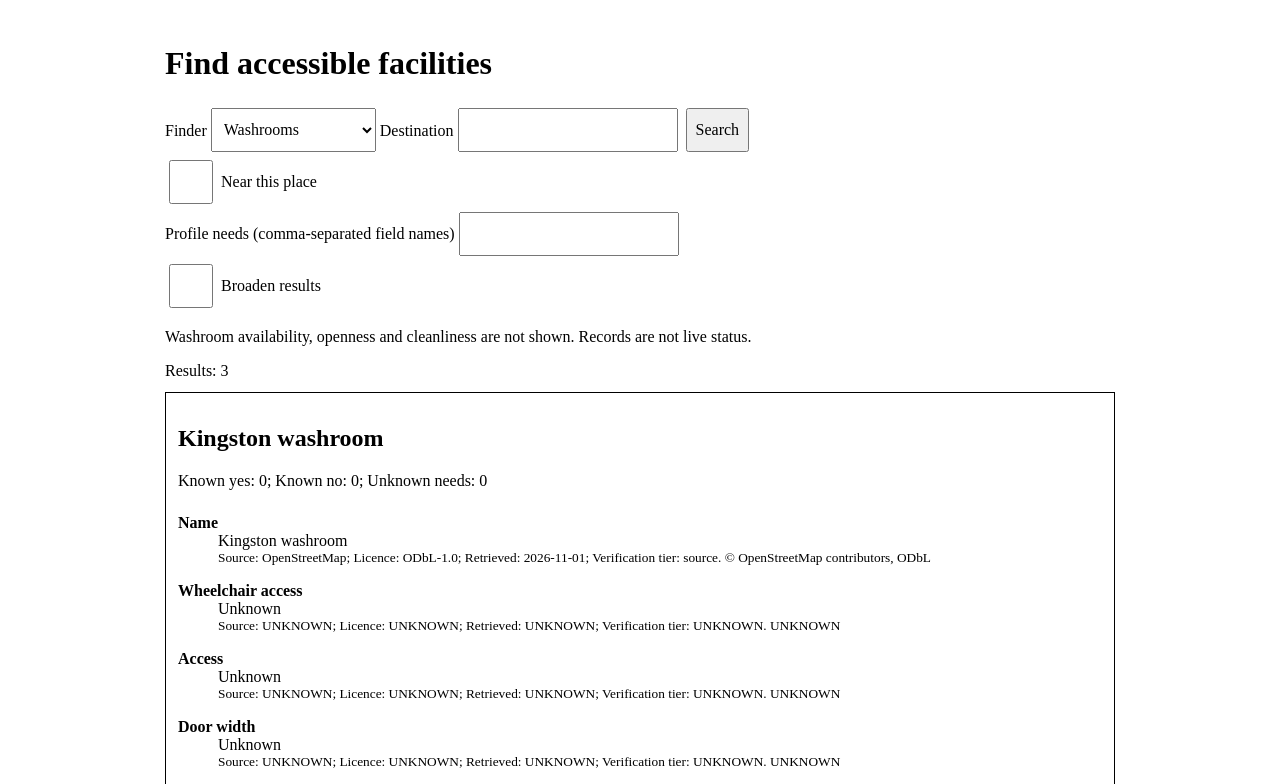
PackFindersPage honesty and labels › names both groups in the changing-finder status, including French typography
Later steps or results of the test are not shown.
Select "Changing tables" in the dropdown labelled "Finder" at point(293, 130), box [211,108,376,152]
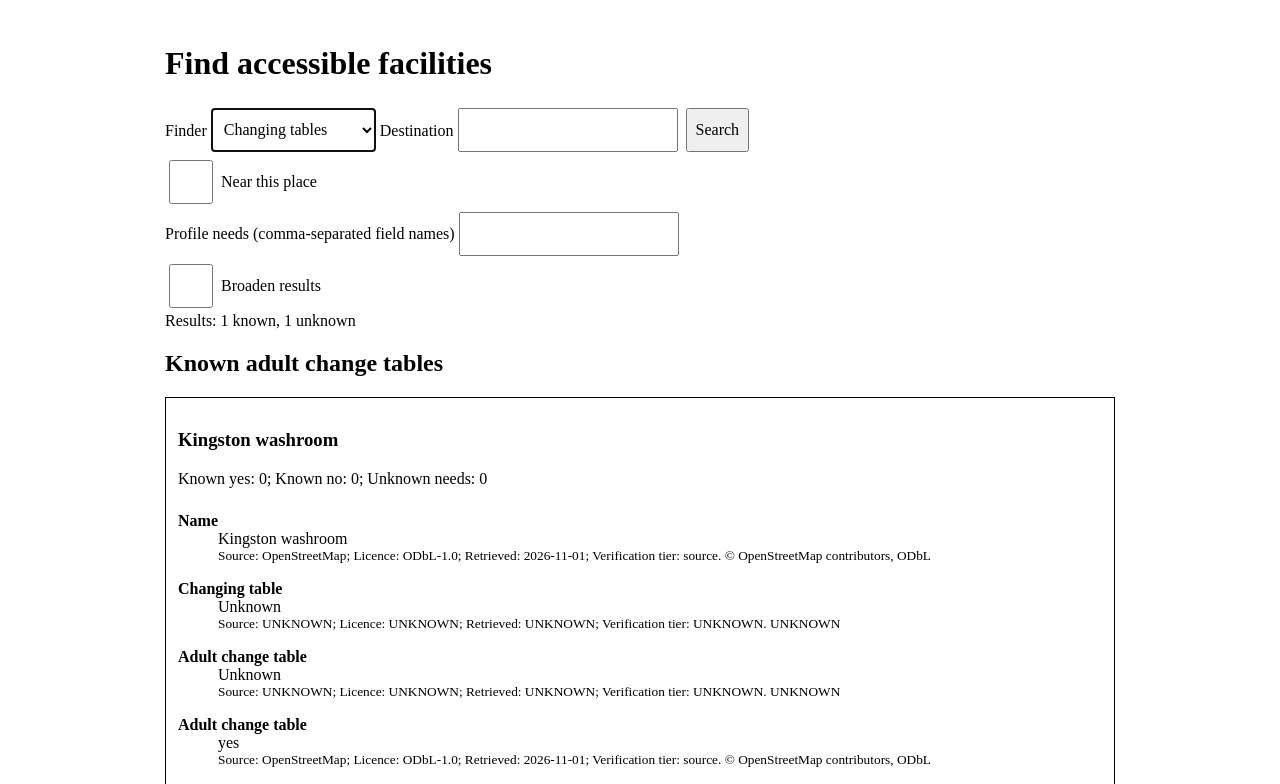
Check: the message reads "Results: 1 known, 1 unknown", box [165,312,356,329]
